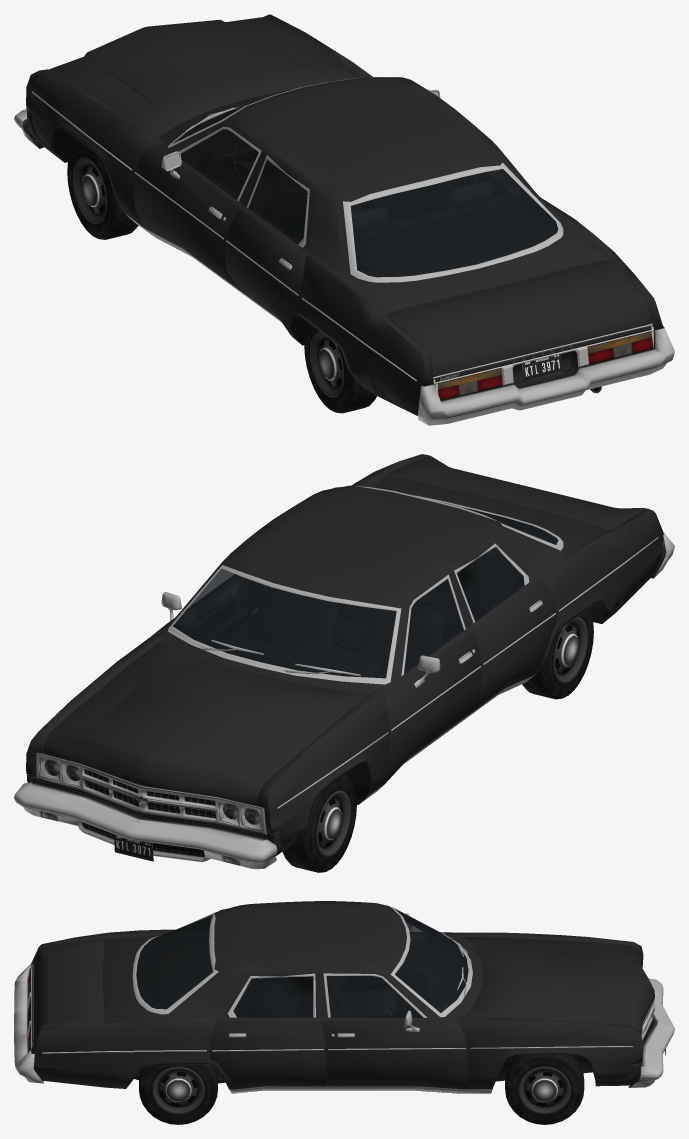
File: chapman_73_black.glb
3 views of the same model, one above another, from view 1: azimuth 30°, elevation 25°; view 2: azimuth 150°, elevation 25°; view 3: azimuth 270°, elevation 25° (orthographic). The views are drawn at different scales.
Visible parts, largest first — view 1: vehicle; view 2: vehicle; view 3: vehicle.
Boxes of the visible parts, x1,y1,x2,y2 form: vehicle: [14, 14, 674, 425]; vehicle: [14, 454, 674, 872]; vehicle: [14, 901, 674, 1124].
Size of the model in its own units: 2.12 by 1.42 by 5.67.
8 materials, 7 textured.
